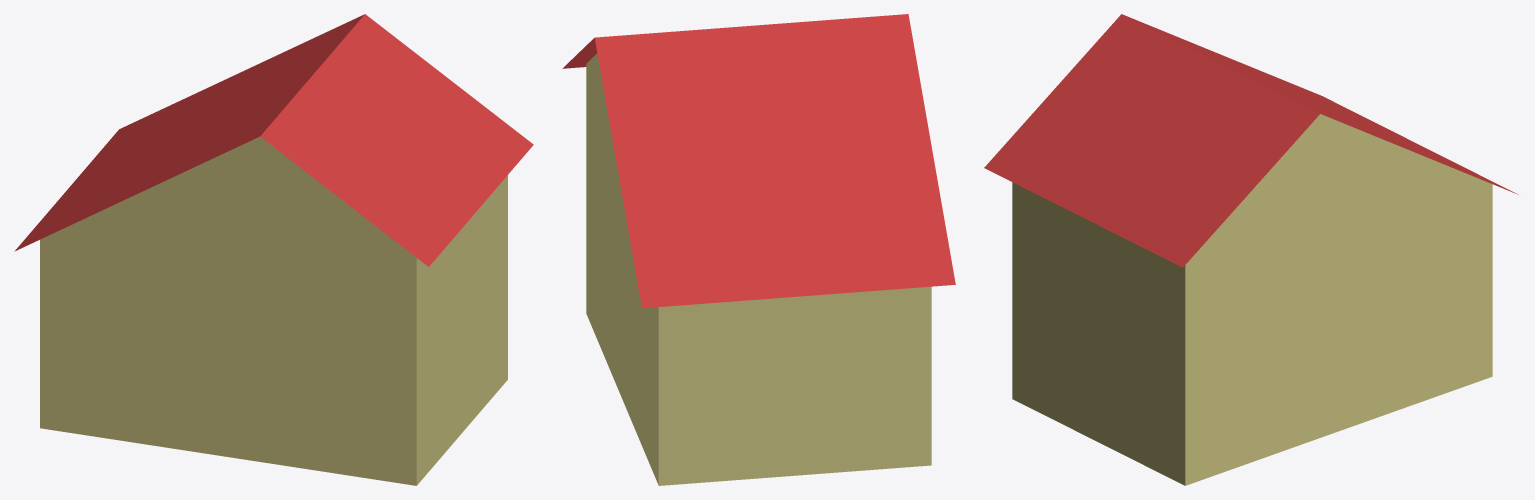
3 renders of one model, left to right at view 1: azimuth 30°, elevation 25°; view 2: azimuth 150°, elevation 25°; view 3: azimuth 270°, elevation 25°, orthographic. The views are drawn at different scales.
Size of the model in its own units: 12.91 by 13.31 by 9.17.
